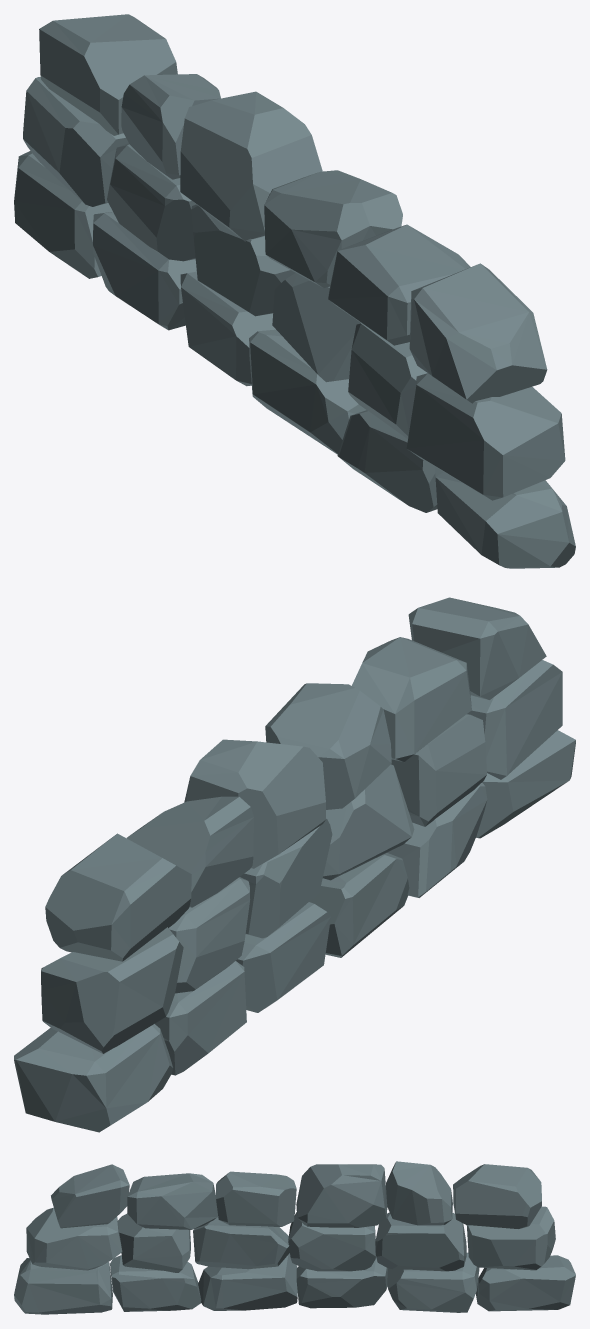
Rendered from kamienny mur.fbx.
3 renders of one model, top to bottom at view 1: azimuth 30°, elevation 25°; view 2: azimuth 150°, elevation 25°; view 3: azimuth 270°, elevation 25°, orthographic. The views are drawn at different scales.
Visible parts, largest first — view 1: Cube.009; view 2: Cube.009; view 3: Cube.009.
Boxes of the visible parts, bbox=[...] form: Cube.009: bbox=[14, 14, 575, 568]; Cube.009: bbox=[14, 597, 575, 1132]; Cube.009: bbox=[14, 1161, 575, 1314].
Bounding box in the file's own units: 245 × 552 × 1997.
